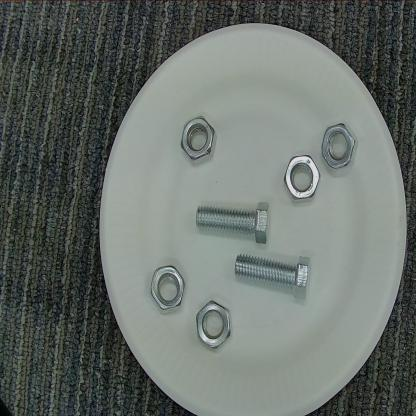FOD: (232, 249, 316, 302), (189, 198, 274, 248), (180, 112, 219, 172), (194, 298, 235, 349), (149, 262, 187, 316), (282, 153, 323, 201), (323, 120, 357, 169)
